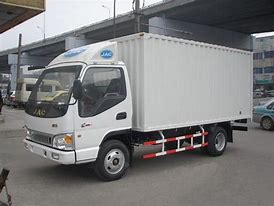smalltruck: (24, 36, 254, 177)
